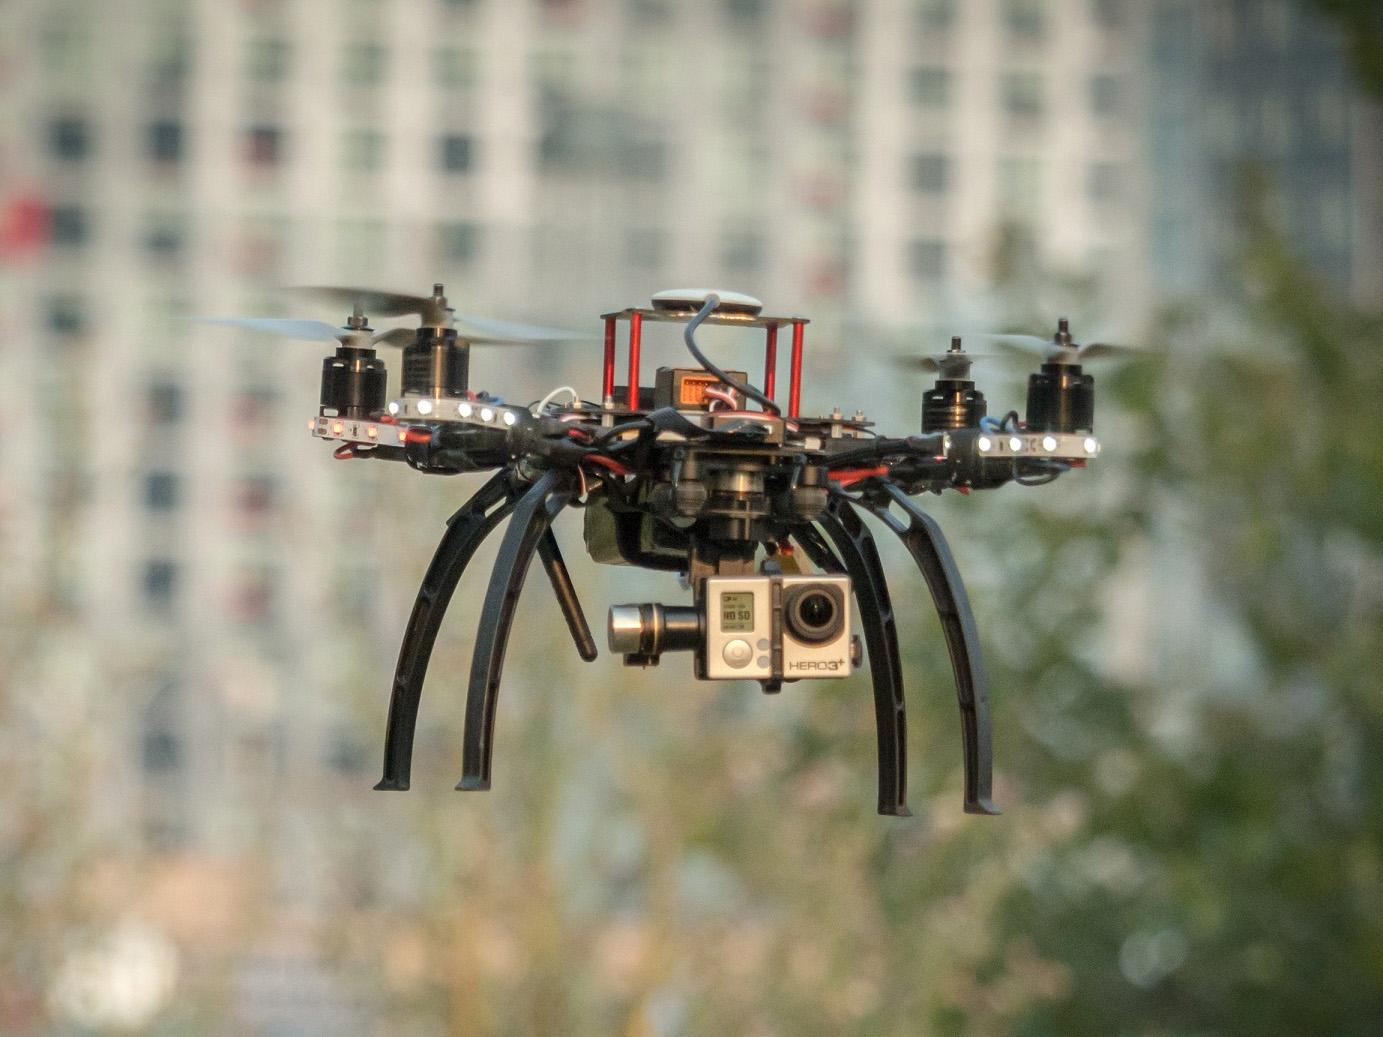drone: (212, 245, 1172, 597)
